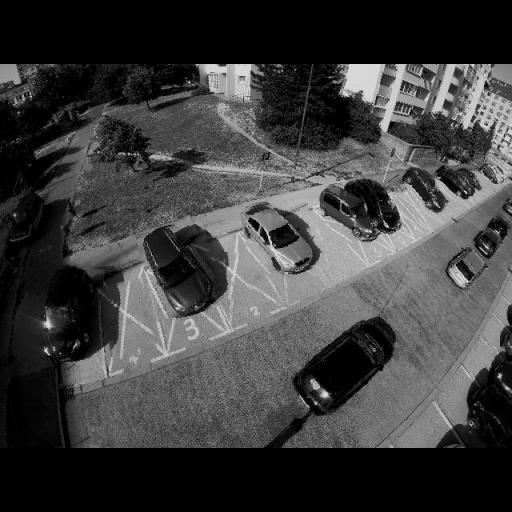busy: (289, 320, 407, 416), (15, 262, 102, 364), (140, 222, 218, 319), (242, 200, 316, 275), (466, 345, 512, 443), (320, 179, 382, 245), (356, 180, 406, 234), (402, 169, 452, 213), (4, 193, 44, 247), (447, 239, 486, 289), (439, 166, 481, 202), (481, 164, 506, 185)
free: (100, 280, 154, 358), (213, 252, 256, 302), (308, 224, 335, 254), (392, 197, 419, 225), (435, 178, 456, 200), (474, 174, 486, 189)
